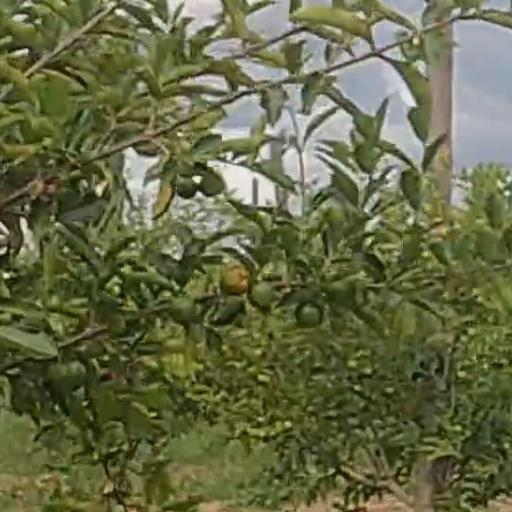acerola_verde: (47, 365, 85, 393), (222, 268, 248, 293), (295, 303, 323, 326)
